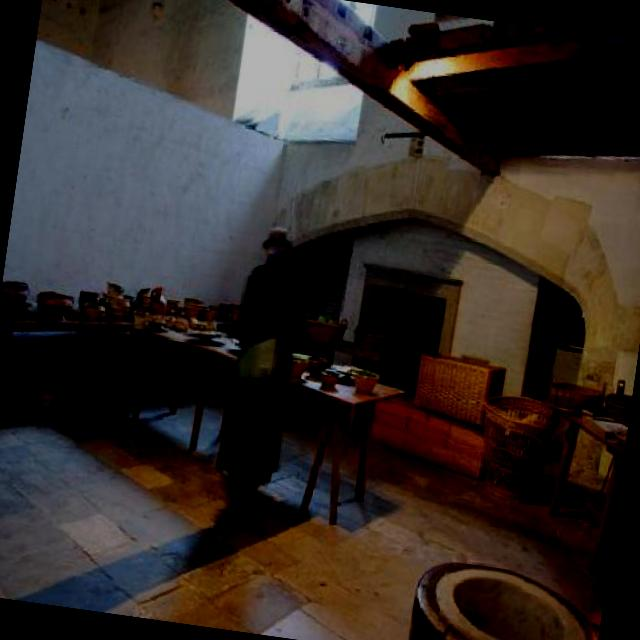Person: (198, 218, 322, 535)
